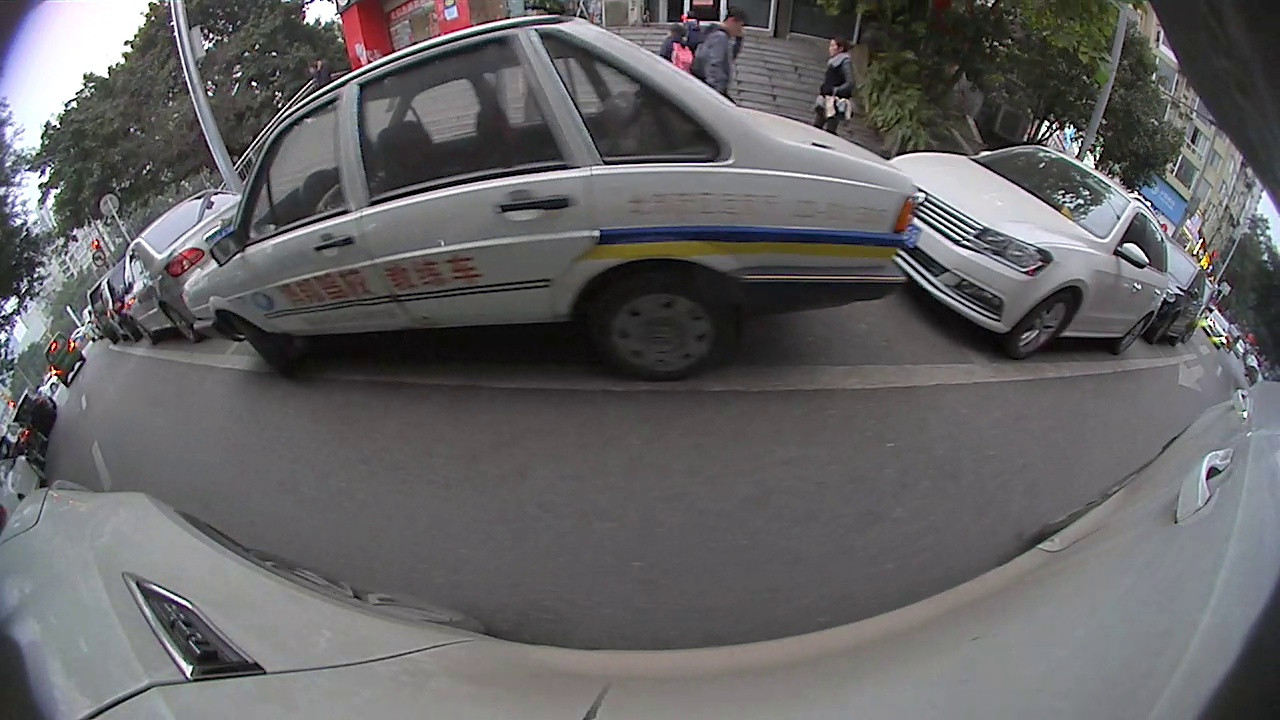car: (204, 38, 921, 380), (890, 141, 1171, 365), (120, 188, 274, 349), (1143, 233, 1205, 351)
front: (1017, 287, 1075, 360)
person: (693, 5, 750, 95), (819, 29, 860, 134)
rear: (591, 271, 740, 373), (160, 303, 199, 343), (1115, 313, 1152, 353)
